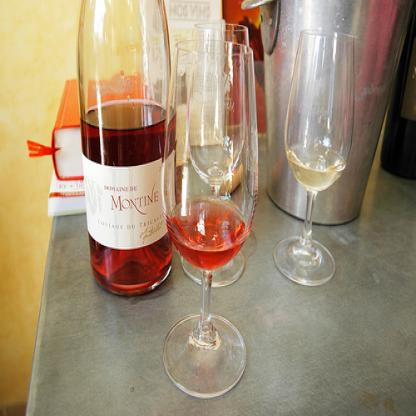bottle: (76, 0, 174, 300)
